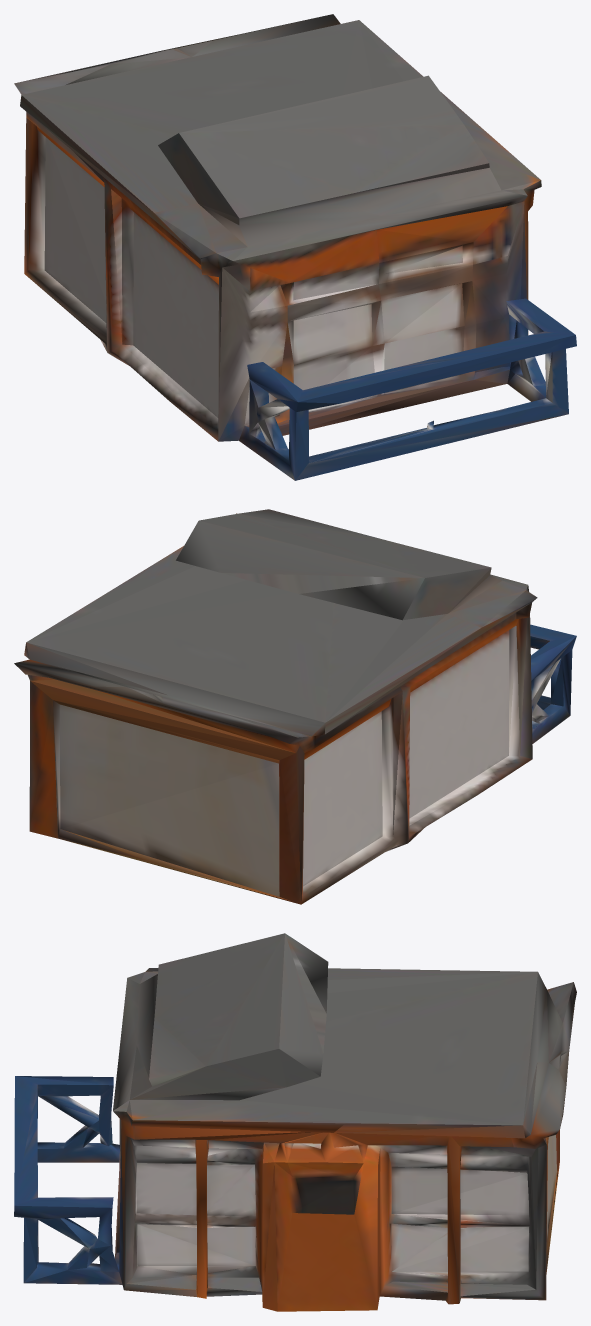
3 renders of one model, top to bottom at view 1: azimuth 30°, elevation 25°; view 2: azimuth 150°, elevation 25°; view 3: azimuth 270°, elevation 25°, orthographic. The views are drawn at different scales.
Visible parts, largest first — view 1: tripo_node_fb7e8506.006; view 2: tripo_node_fb7e8506.006; view 3: tripo_node_fb7e8506.006.
Part boxes in pixels (box(x1,y1,x2,y2)): tripo_node_fb7e8506.006: box(14, 14, 576, 480); tripo_node_fb7e8506.006: box(14, 509, 576, 904); tripo_node_fb7e8506.006: box(14, 933, 576, 1311).
Size of the model in its own units: 16.81 by 10.89 by 23.47.
Materials: 1 (1 with a texture image).
